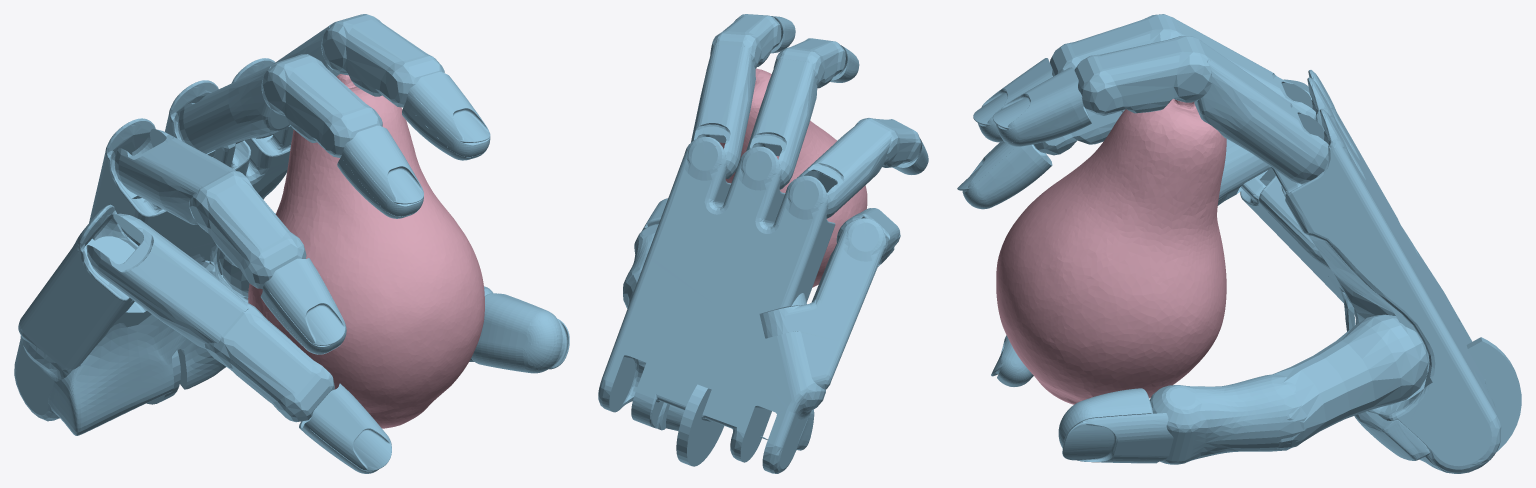
3 renders of one model, left to right at view 1: azimuth 30°, elevation 25°; view 2: azimuth 150°, elevation 25°; view 3: azimuth 270°, elevation 25°, orthographic. The views are drawn at different scales.
Visible parts, largest first — view 1: world, pear.stl; view 2: world, pear.stl; view 3: world, pear.stl.
Part boxes in pixels (x1=…): world: x1=14, y1=14, x2=569, y2=473; pear.stl: x1=248, y1=74, x2=484, y2=428; world: x1=598, y1=14, x2=928, y2=473; pear.stl: x1=715, y1=68, x2=867, y2=287; world: x1=957, y1=14, x2=1521, y2=473; pear.stl: x1=996, y1=99, x2=1226, y2=404.
Size of the model in its own units: 0.1316 by 0.1458 by 0.1608.
